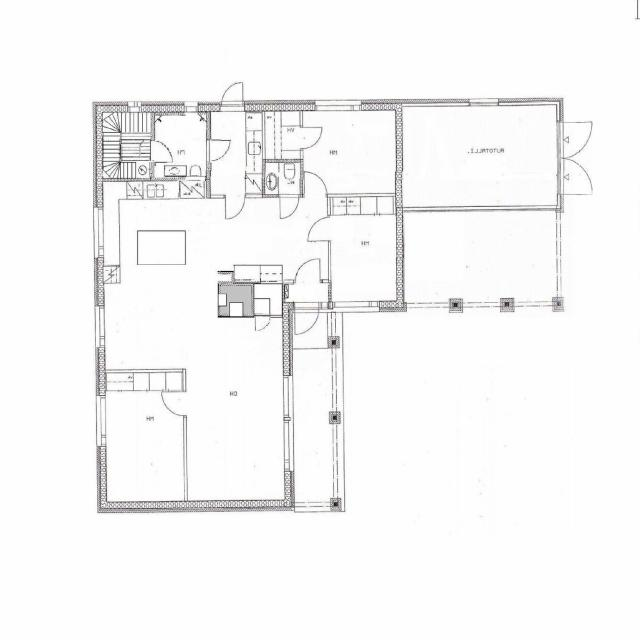door: (557, 158, 598, 194), (557, 122, 598, 158), (295, 301, 319, 338), (296, 253, 320, 283), (222, 77, 243, 111), (305, 170, 327, 198), (306, 217, 331, 241), (162, 392, 187, 416), (206, 140, 232, 161), (300, 128, 323, 149), (225, 194, 245, 218), (152, 141, 174, 162), (280, 194, 299, 218), (256, 314, 270, 332)
